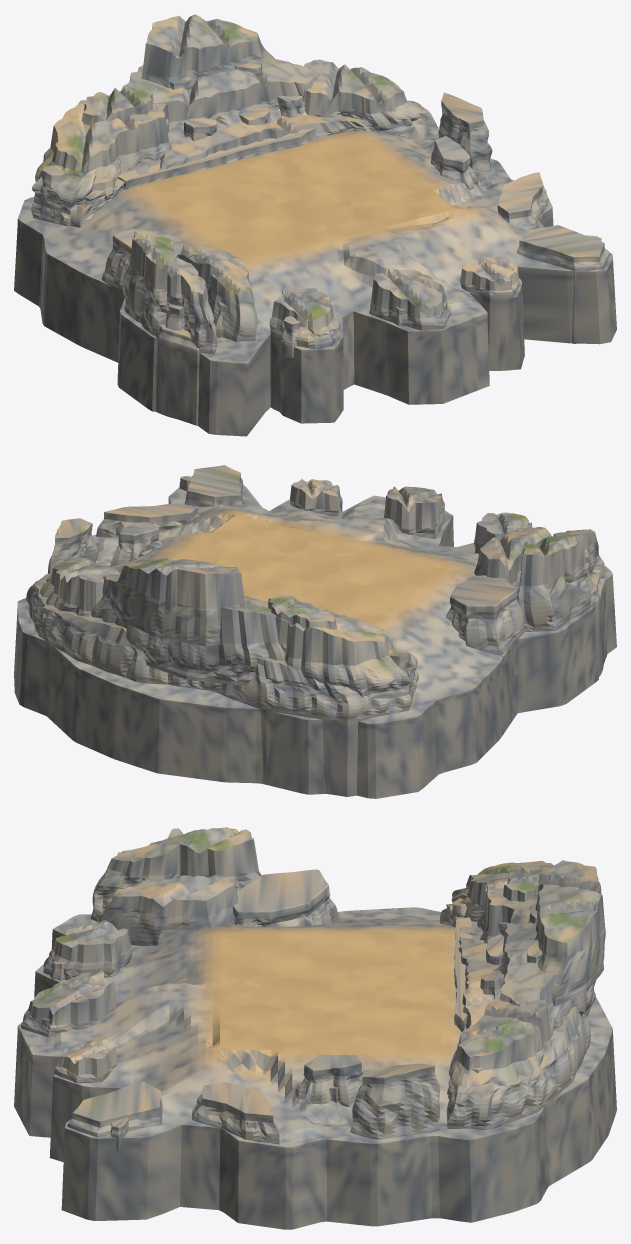
Rendered from projects-island-v2-r4-batched.glb.
3 views of the same model, one above another, from view 1: azimuth 30°, elevation 25°; view 2: azimuth 150°, elevation 25°; view 3: azimuth 270°, elevation 25° (orthographic). The views are drawn at different scales.
Parts seen in each view (by area): view 1: Batched_1_ProjectsIsland_V2_HoneyEarth, Batched_0_ProjectsIsland_V2_Limestone; view 2: Batched_1_ProjectsIsland_V2_HoneyEarth, Batched_0_ProjectsIsland_V2_Limestone; view 3: Batched_1_ProjectsIsland_V2_HoneyEarth, Batched_0_ProjectsIsland_V2_Limestone.
Boxes of the visible parts, x1=… form: Batched_1_ProjectsIsland_V2_HoneyEarth: x1=14, y1=130, x2=616, y2=436; Batched_0_ProjectsIsland_V2_Limestone: x1=31, y1=14, x2=609, y2=425; Batched_1_ProjectsIsland_V2_HoneyEarth: x1=14, y1=484, x2=616, y2=798; Batched_0_ProjectsIsland_V2_Limestone: x1=26, y1=465, x2=607, y2=796; Batched_1_ProjectsIsland_V2_HoneyEarth: x1=14, y1=907, x2=616, y2=1229; Batched_0_ProjectsIsland_V2_Limestone: x1=21, y1=827, x2=605, y2=1160.
Bounding box in the file's own units: 68.72 × 28.91 × 70.88.
